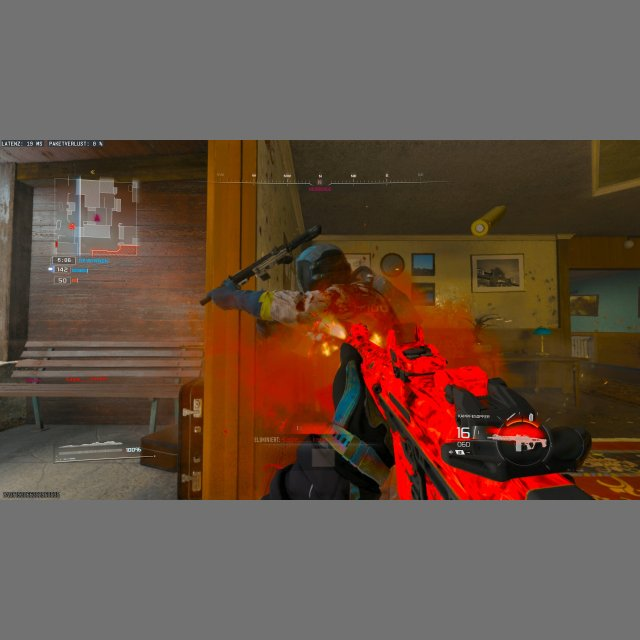head: (308, 247, 353, 290)
player: (254, 246, 399, 352)
